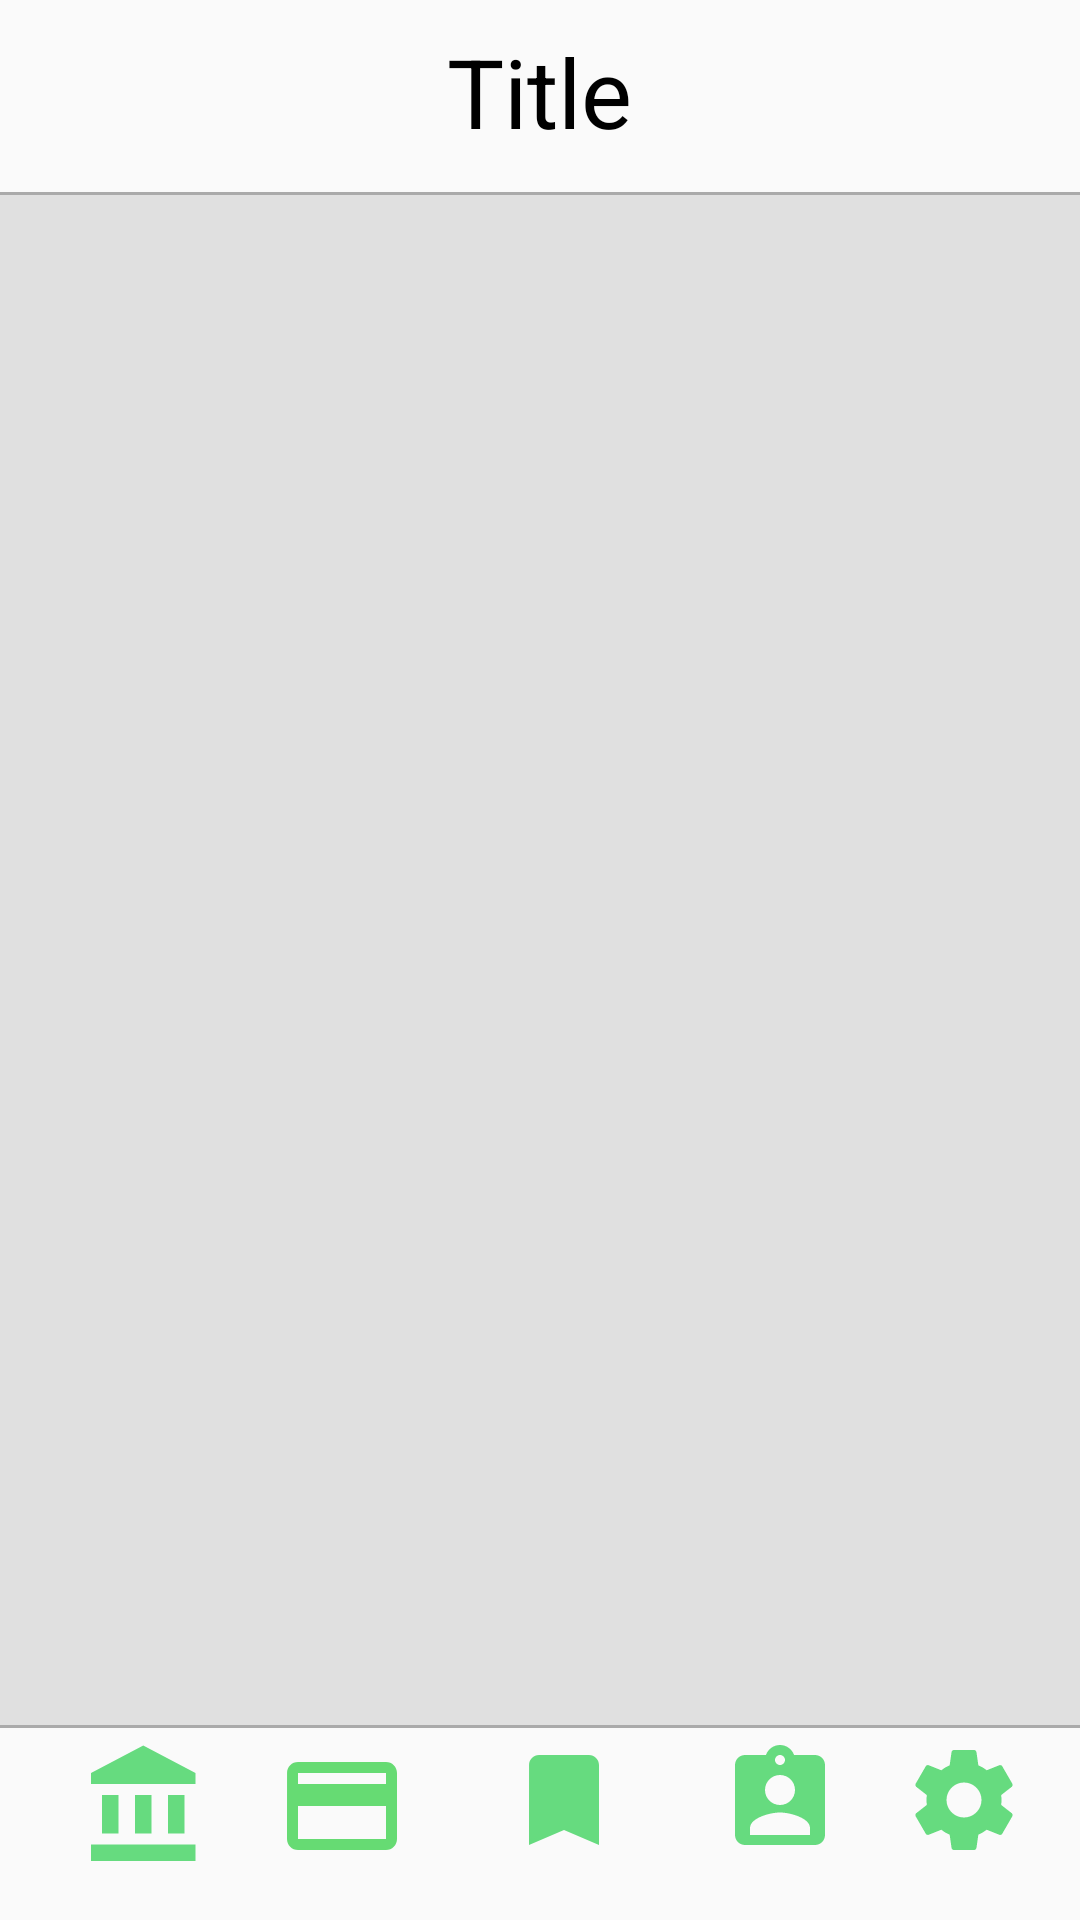

Where to tap for icons on this 1080×1920 app screen, as [x,y]:
account balance: [143,1803]
assignment ind: [780,1795]
bookmark: [564,1800]
payement: [342,1806]
settings: [964,1800]
